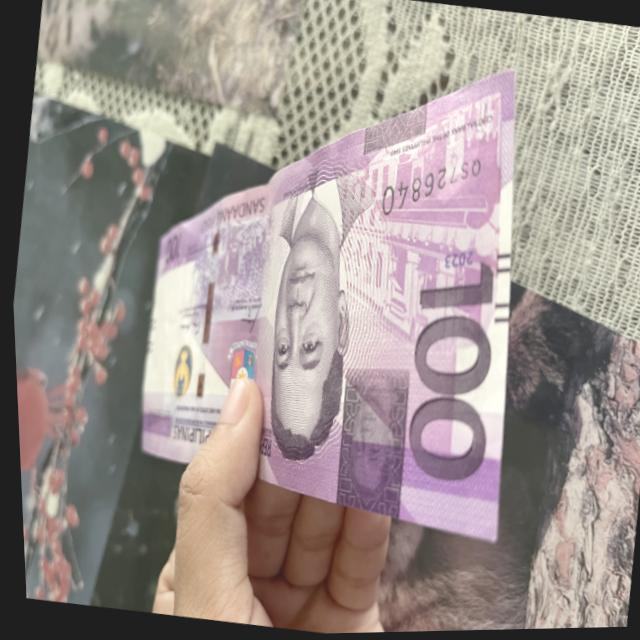concealed_value: (323, 362, 410, 517)
security_thread: (176, 201, 230, 468)
serial_number: (375, 135, 491, 235)
value: (379, 254, 511, 488)
